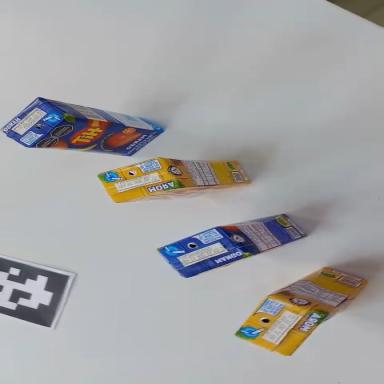HIT-MANGO: (0, 92, 166, 173), (157, 199, 307, 284)
HIT-MORA: (230, 240, 371, 374), (97, 144, 251, 208)
cara_F: (28, 110, 164, 170)
